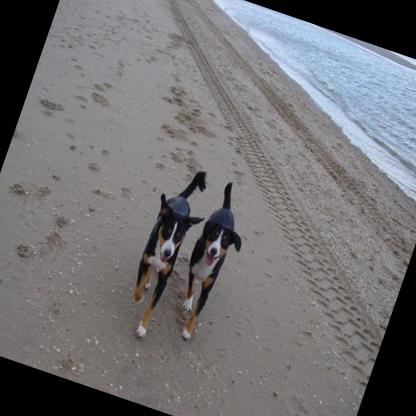EntleBucher: (114, 159, 216, 343), (165, 180, 266, 349)
